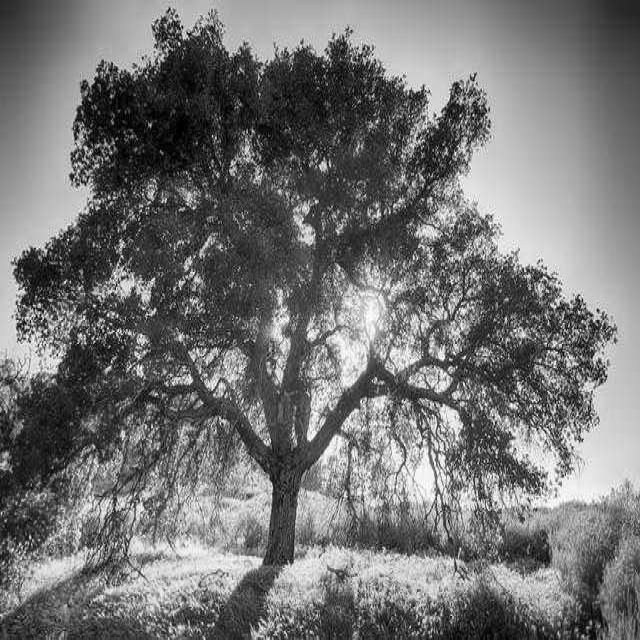Tree: (15, 13, 615, 564)
